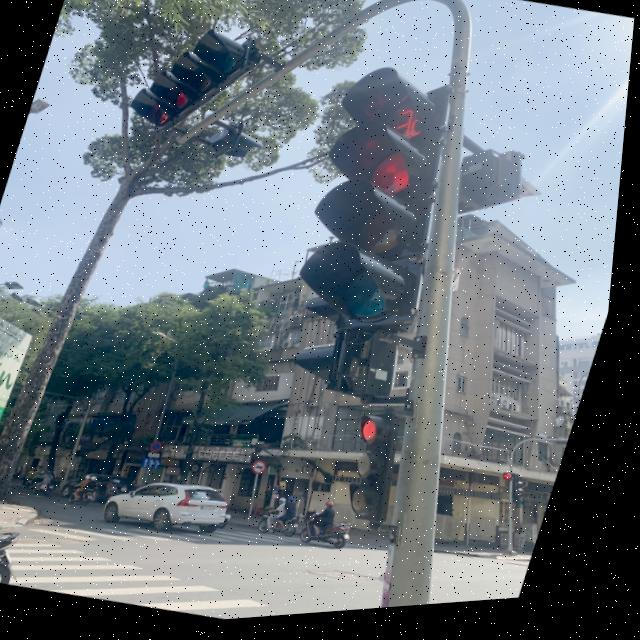Red: (266, 132, 469, 346), (333, 412, 432, 537)
